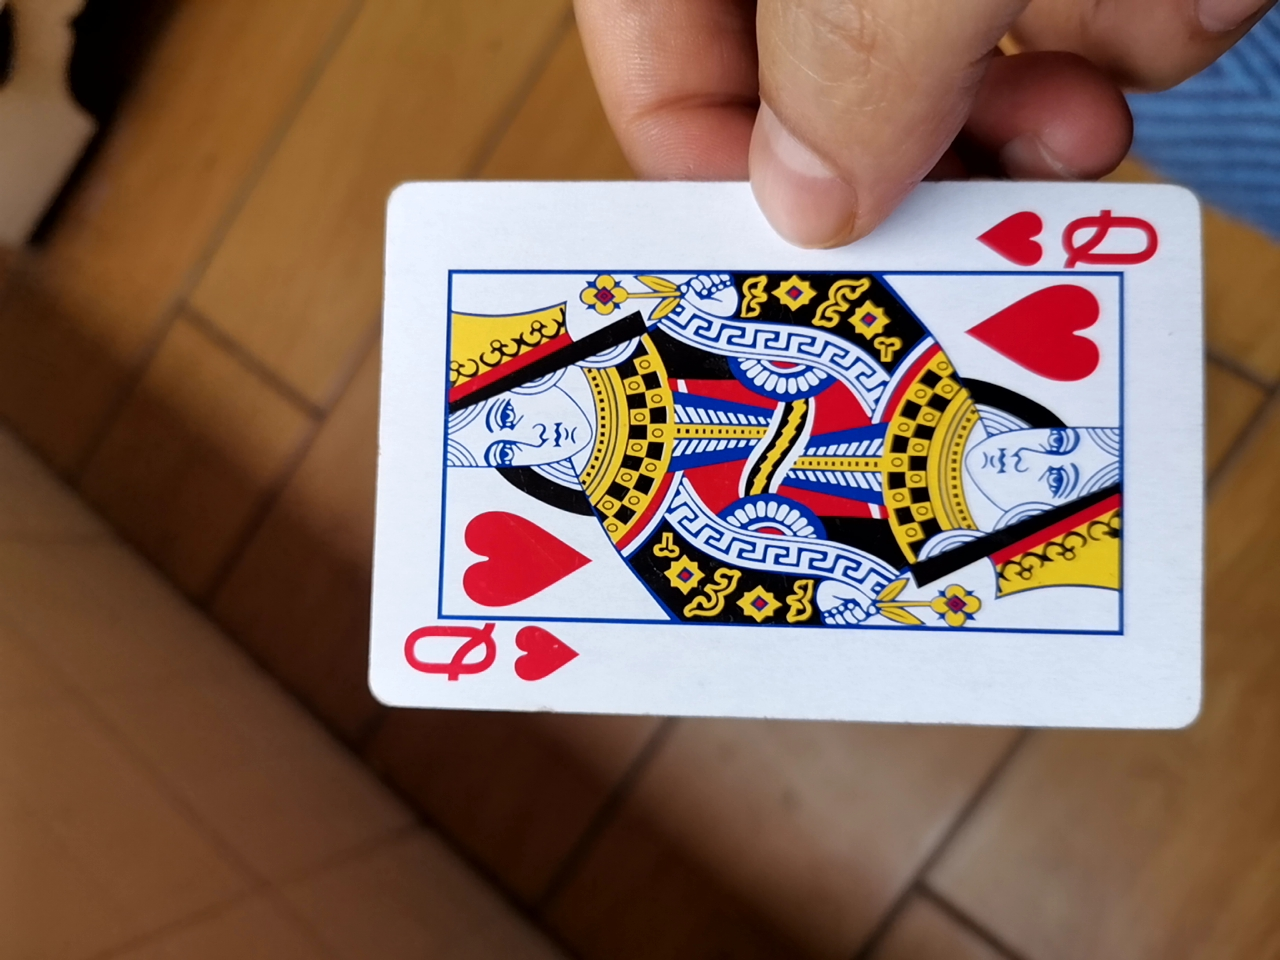hx q: (342, 163, 1197, 735)
